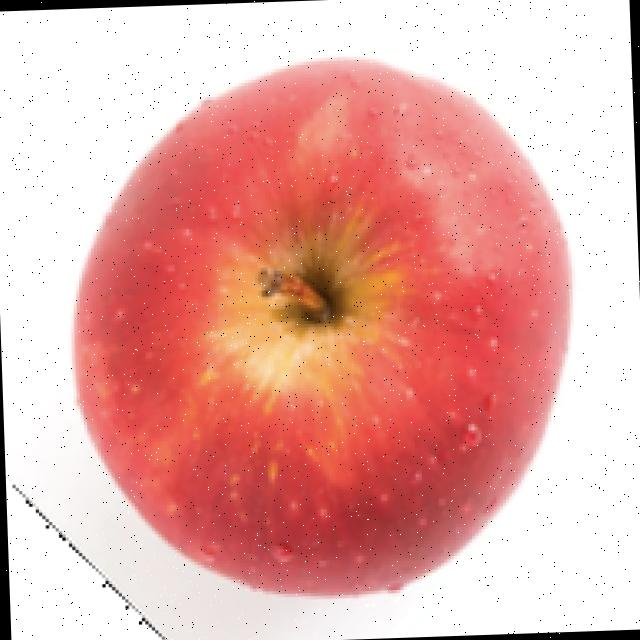apple: (64, 51, 575, 605)
